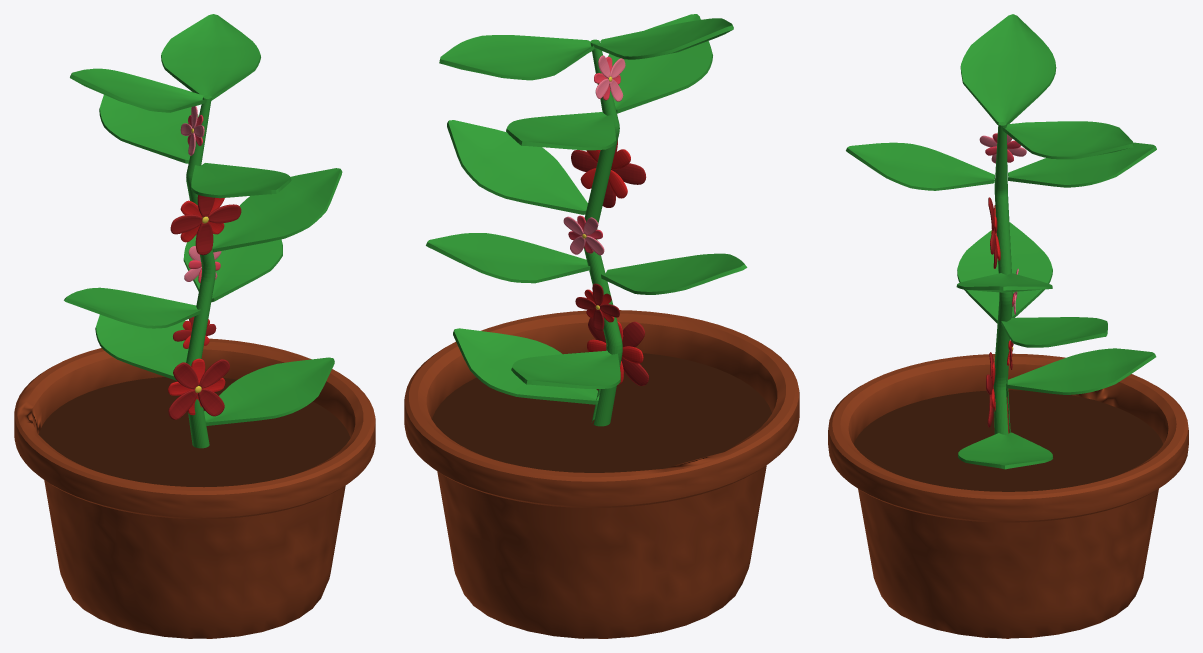
Rendered from new_plant.fbx.
3 views of the same model, side by side, from view 1: azimuth 30°, elevation 25°; view 2: azimuth 150°, elevation 25°; view 3: azimuth 270°, elevation 25° (orthographic). The views are drawn at different scales.
Visible parts, largest first — view 1: Circle, Circle.008, Circle.006, Circle.003, Circle.009, Circle.010, Circle.001, Circle.002, Circle.005, Circle.007, Circle.022, Circle.004 (+5 smaller); view 2: Circle, Circle.008, Circle.003, Circle.006, Circle.022, Circle.009, Circle.004, Circle.002, Circle.007, Circle.010, Circle.001, Circle.005 (+5 smaller); view 3: Circle, Circle.008, Circle.005, Circle.004, Circle.001, Circle.002, Circle.006, Circle.007, Circle.010, Circle.022, Circle.009, Circle.003 (+1 smaller).
Boxes of the visible parts, x1=… form: Circle: x1=14, y1=338, x2=375, y2=638; Circle.008: x1=38, y1=377, x2=350, y2=487; Circle.006: x1=161, y1=14, x2=260, y2=100; Circle.003: x1=212, y1=168, x2=342, y2=252; Circle.009: x1=204, y1=357, x2=334, y2=425; Circle.010: x1=99, y1=94, x2=198, y2=163; Circle.001: x1=95, y1=314, x2=188, y2=380; Circle.002: x1=64, y1=287, x2=201, y2=328; Circle.005: x1=70, y1=68, x2=206, y2=112; Circle.007: x1=186, y1=95, x2=215, y2=448; Circle.022: x1=183, y1=223, x2=282, y2=302; Circle.004: x1=191, y1=163, x2=291, y2=198; Circle: x1=404, y1=310, x2=799, y2=638; Circle.008: x1=432, y1=352, x2=771, y2=472; Circle.003: x1=447, y1=120, x2=587, y2=214; Circle.006: x1=439, y1=35, x2=594, y2=80; Circle.022: x1=426, y1=233, x2=590, y2=283; Circle.009: x1=453, y1=328, x2=599, y2=404; Circle.004: x1=608, y1=14, x2=712, y2=113; Circle.002: x1=601, y1=253, x2=747, y2=294; Circle.007: x1=584, y1=39, x2=622, y2=426; Circle.010: x1=506, y1=112, x2=615, y2=150; Circle.001: x1=511, y1=350, x2=620, y2=388; Circle.005: x1=593, y1=18, x2=733, y2=59; Circle: x1=828, y1=353, x2=1188, y2=638; Circle.008: x1=853, y1=390, x2=1163, y2=491; Circle.005: x1=960, y1=14, x2=1056, y2=125; Circle.004: x1=846, y1=142, x2=994, y2=190; Circle.001: x1=1007, y1=348, x2=1156, y2=394; Circle.002: x1=957, y1=222, x2=1052, y2=323; Circle.006: x1=1002, y1=121, x2=1133, y2=159; Circle.007: x1=993, y1=122, x2=1012, y2=435; Circle.010: x1=1008, y1=142, x2=1156, y2=187; Circle.022: x1=1001, y1=317, x2=1107, y2=347; Circle.009: x1=958, y1=432, x2=1052, y2=469; Circle.003: x1=956, y1=273, x2=1052, y2=292.
Size of the model in its own units: 130 by 222 by 137.
